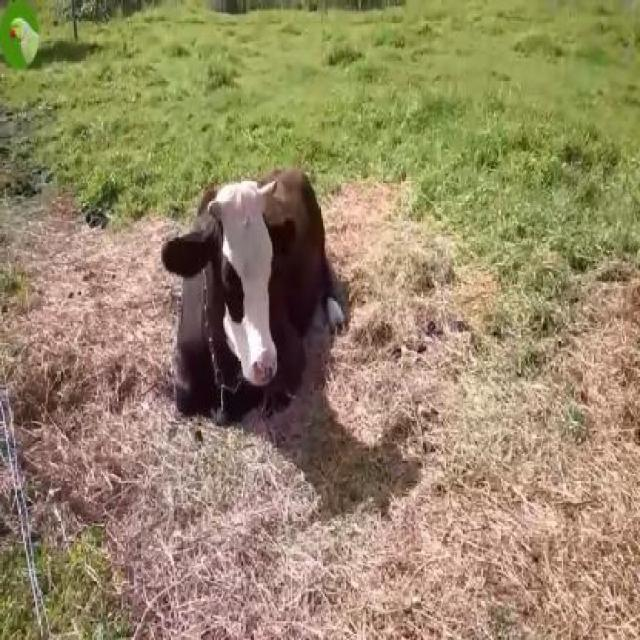Cow: (162, 165, 348, 423)
